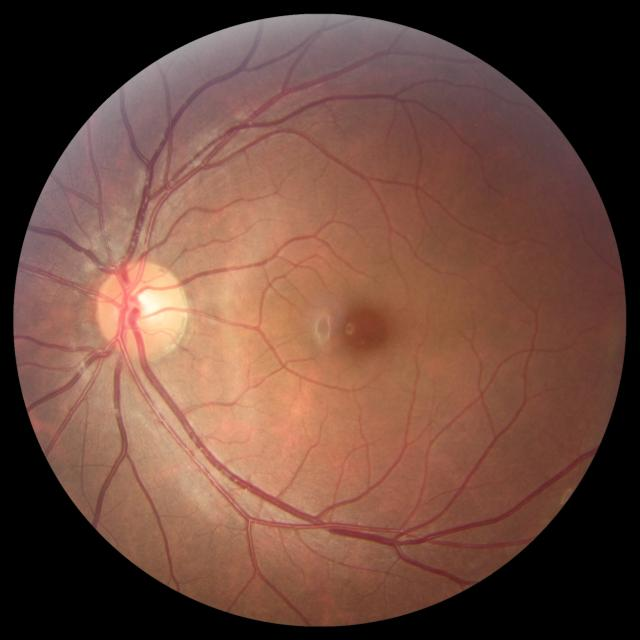OC: (124, 288, 162, 326)
OD: (96, 260, 188, 358)
